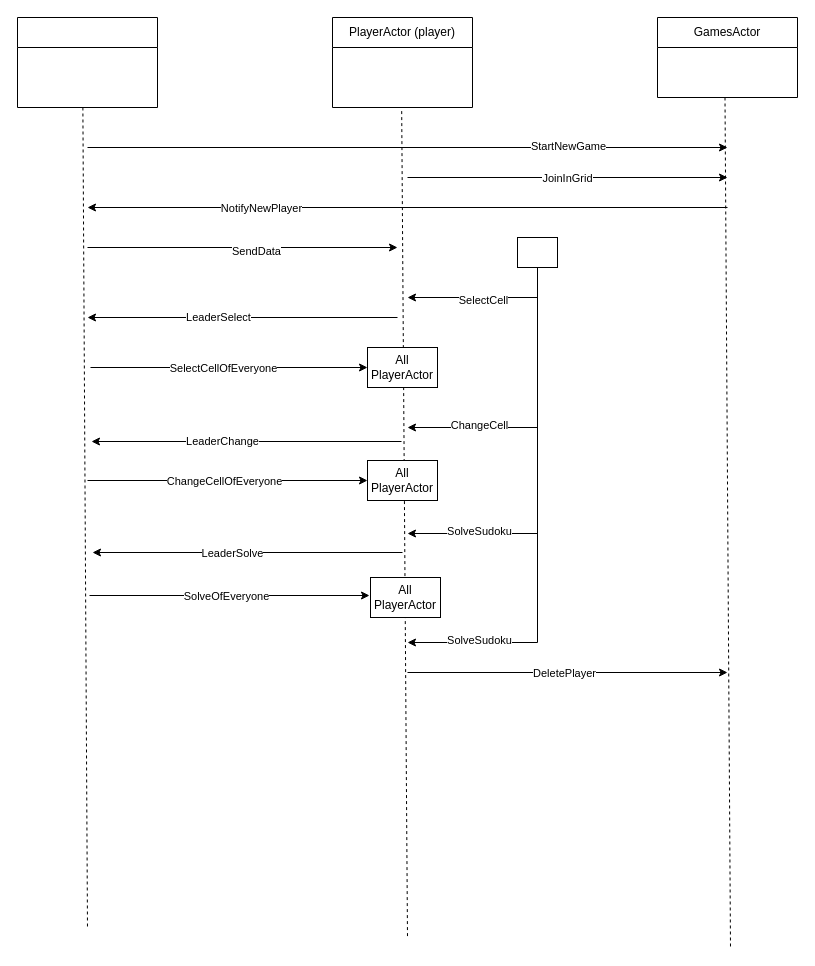
Image size: 815x966. Some labels were removed from this diagram. Here are the shapes that lost their labels. From the top down, the centre of each, then its label:
At pixel 87 62: "PlayerActor (leader)".
At pixel 537 252: "GUI".
